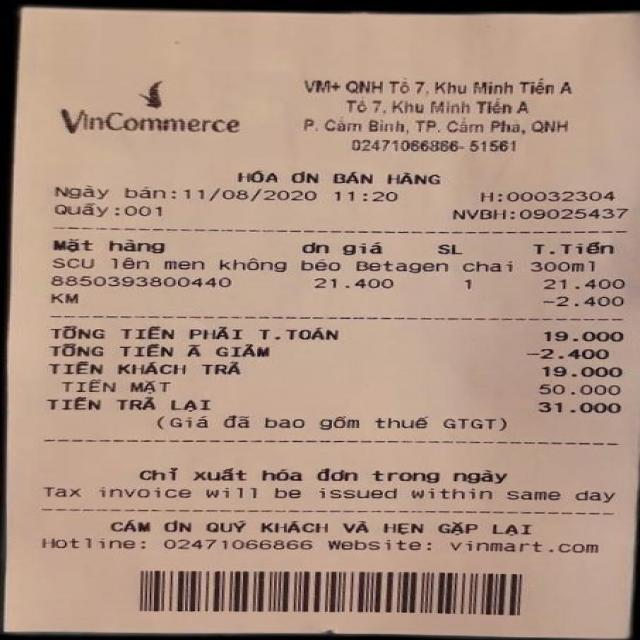Date: (180, 186, 323, 208)
Store_Name: (46, 76, 249, 151)
Total_Amount: (33, 316, 637, 344)
